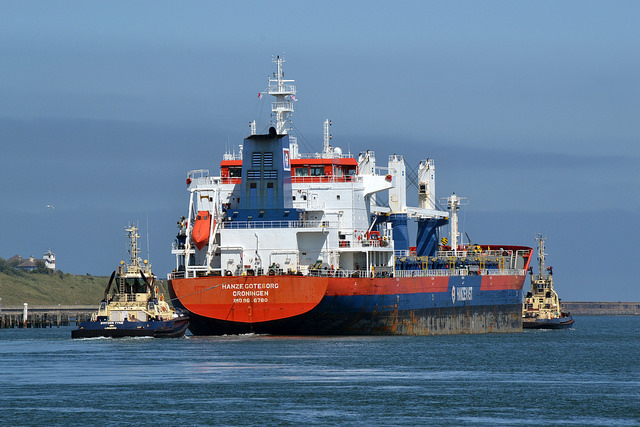bulk carrier: (168, 58, 530, 339)
tug_boat: (68, 222, 187, 342), (526, 234, 575, 327)
